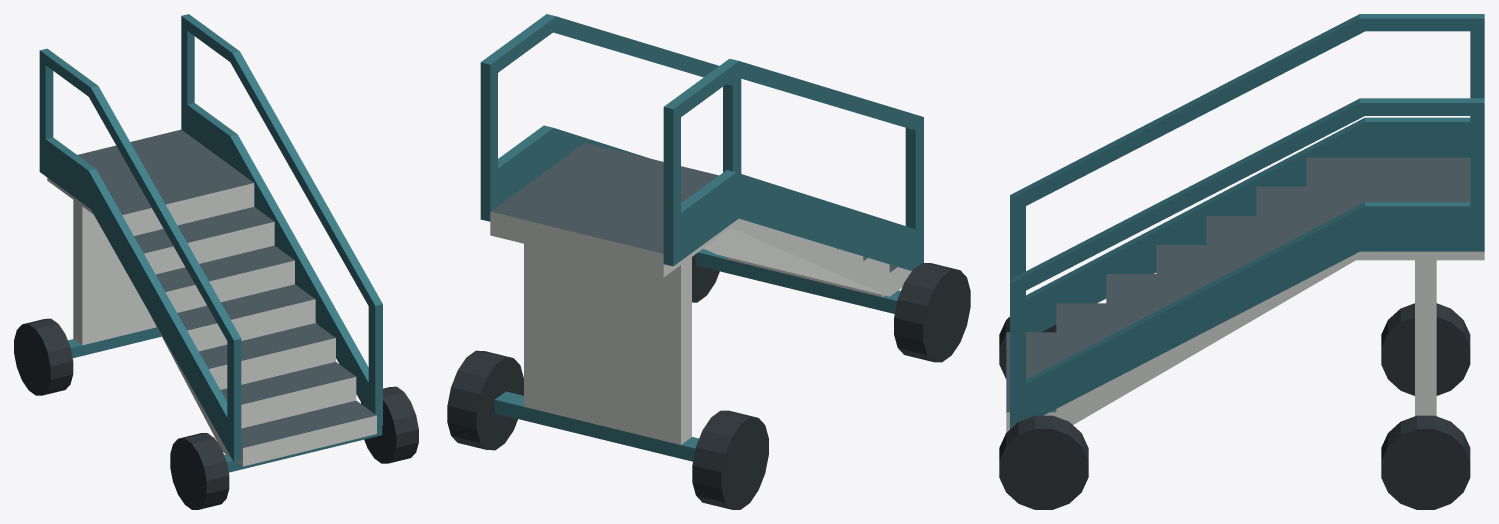
3 renders of one model, left to right at view 1: azimuth 30°, elevation 25°; view 2: azimuth 150°, elevation 25°; view 3: azimuth 270°, elevation 25°, orthographic. The views are drawn at different scales.
Parts seen in each view (by area): view 1: ContinuousSevenLevelStairAndLanding, LeftContinuousOpenSideFrame, RightContinuousOpenSideFrame, RearFullWidthBearer, FrontLeftFlatBottomWheel, RearLeftFlatBottomWheel, FrontRightFlatBottomWheel, RearTransverseAxle, FrontTransverseAxle; view 2: RearFullWidthBearer, ContinuousSevenLevelStairAndLanding, LeftContinuousOpenSideFrame, RightContinuousOpenSideFrame, FrontLeftFlatBottomWheel, RearLeftFlatBottomWheel, RearRightFlatBottomWheel, RearTransverseAxle, FrontTransverseAxle, FrontRightFlatBottomWheel; view 3: RightContinuousOpenSideFrame, ContinuousSevenLevelStairAndLanding, LeftContinuousOpenSideFrame, FrontRightFlatBottomWheel, RearRightFlatBottomWheel, RearLeftFlatBottomWheel, RearFullWidthBearer.
Part boxes in pixels (box(x1,y1,x2,y2)): ContinuousSevenLevelStairAndLanding: box(47, 129, 376, 466); LeftContinuousOpenSideFrame: box(39, 48, 241, 461); RightContinuousOpenSideFrame: box(181, 14, 382, 426); RearFullWidthBearer: box(73, 200, 156, 345); FrontLeftFlatBottomWheel: box(170, 433, 229, 509); RearLeftFlatBottomWheel: box(14, 318, 73, 395); FrontRightFlatBottomWheel: box(361, 386, 418, 463); RearTransverseAxle: box(68, 327, 161, 358); FrontTransverseAxle: box(224, 426, 382, 472); RearFullWidthBearer: box(524, 244, 691, 444); ContinuousSevenLevelStairAndLanding: box(490, 142, 911, 296); LeftContinuousOpenSideFrame: box(663, 58, 923, 270); RightContinuousOpenSideFrame: box(480, 14, 741, 221); FrontLeftFlatBottomWheel: box(894, 263, 970, 362); RearLeftFlatBottomWheel: box(692, 410, 768, 509); RearRightFlatBottomWheel: box(447, 350, 523, 450); RearTransverseAxle: box(494, 391, 698, 461); FrontTransverseAxle: box(696, 248, 900, 313); FrontRightFlatBottomWheel: box(692, 254, 719, 302); RightContinuousOpenSideFrame: box(1010, 98, 1484, 428); ContinuousSevenLevelStairAndLanding: box(1006, 157, 1484, 432); LeftContinuousOpenSideFrame: box(1010, 14, 1484, 332); FrontRightFlatBottomWheel: box(999, 415, 1088, 509); RearRightFlatBottomWheel: box(1381, 415, 1470, 509); RearLeftFlatBottomWheel: box(1381, 303, 1470, 395); RearFullWidthBearer: box(1415, 260, 1436, 415).
Bounding box in the file's own units: 1.68 × 2.4 × 2.72.
